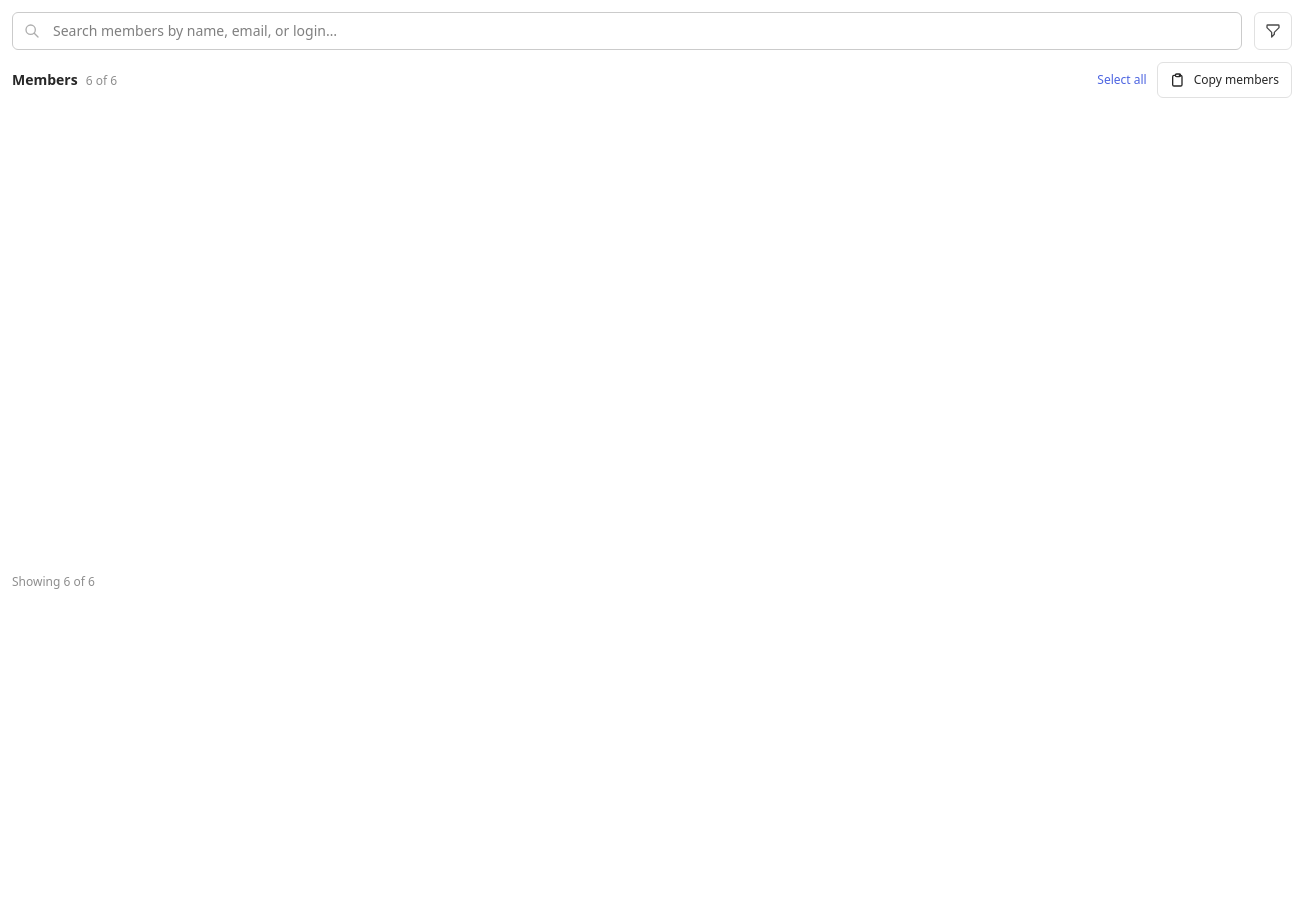
Test: MemberExplorer filtering › applies a status facet, and says which filter is applied
Click the button named "Filters". click: (1273, 31)
box: [1254,12,1292,50]
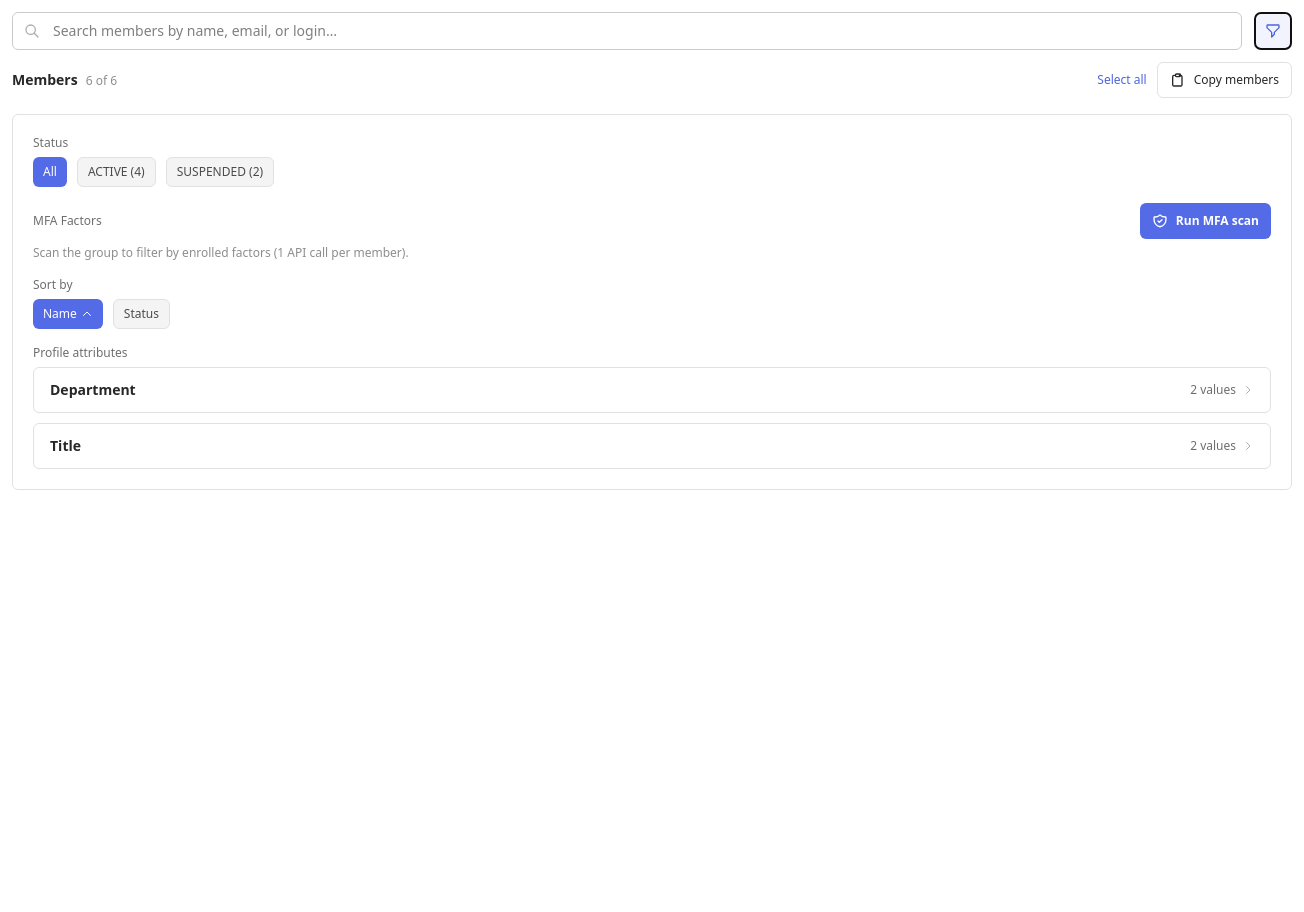
Click the button "SUSPENDED (2)". click: (220, 172)
box: [166,157,274,187]
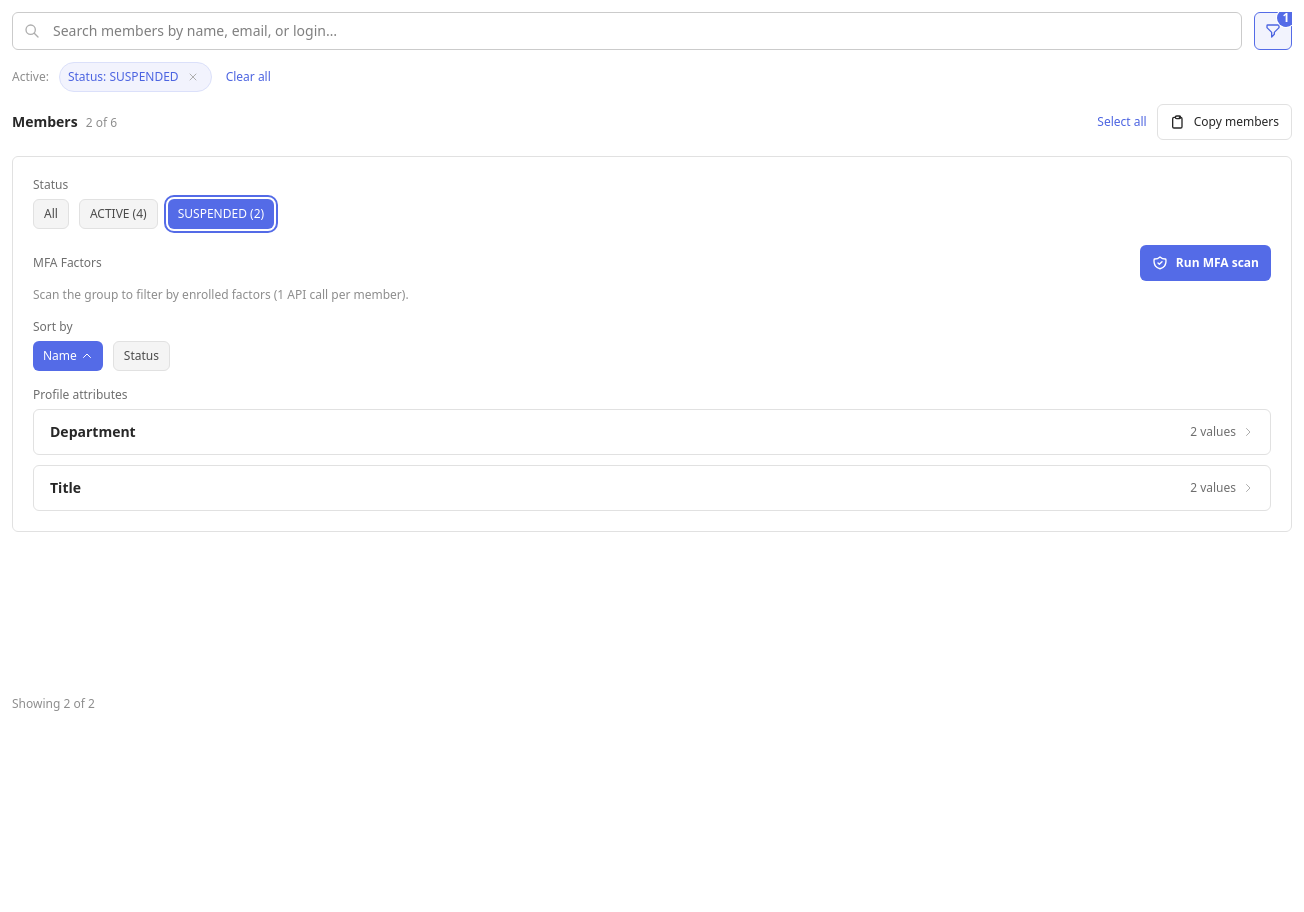
Check: the text "2 of 6" is shown, box [86,114,117,131]
Check: the text "Status: SUSPENDED" is shown, box [59,62,212,92]
